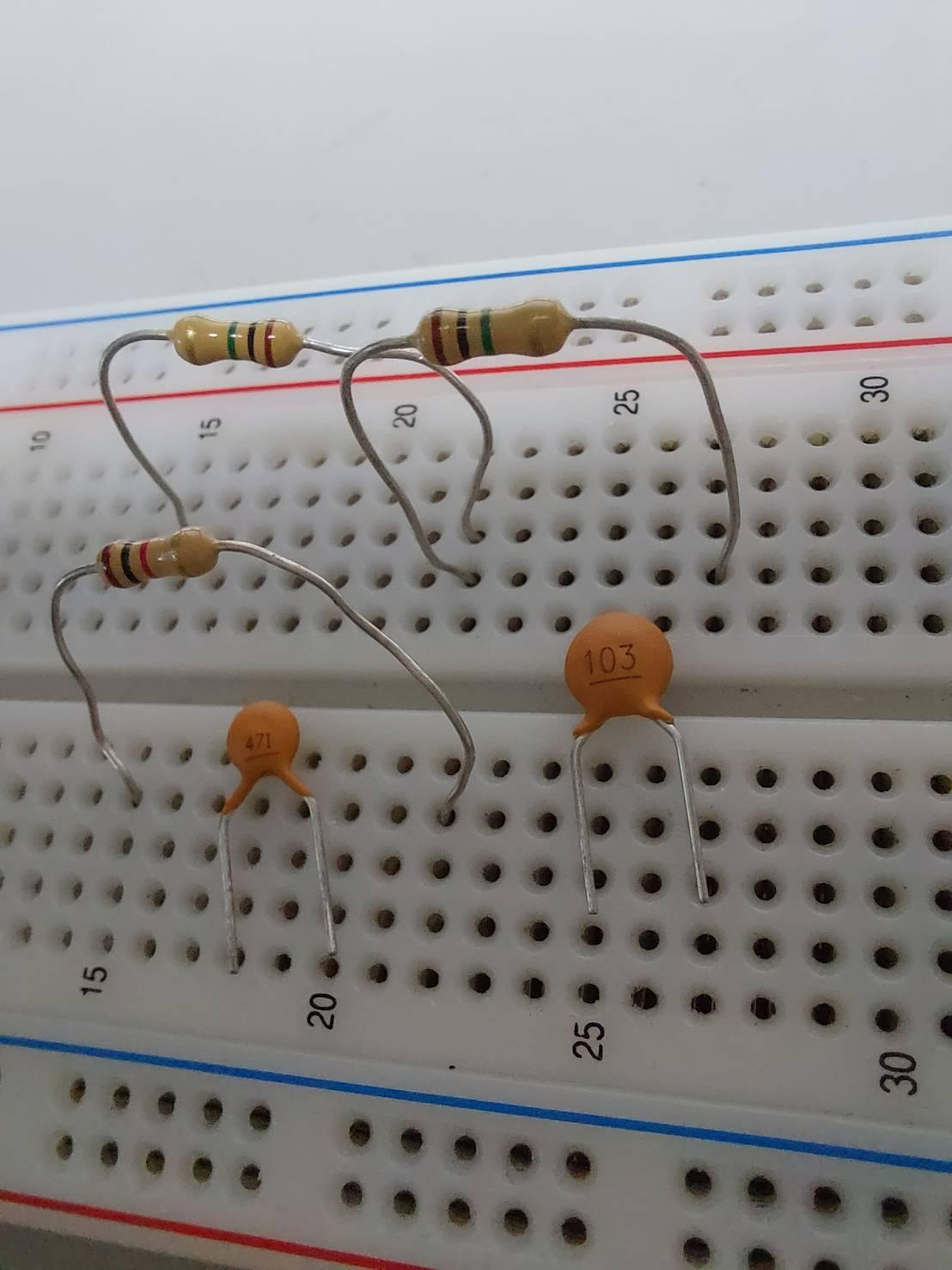resistor: (412, 297, 571, 366), (88, 527, 230, 588), (171, 310, 306, 371)
